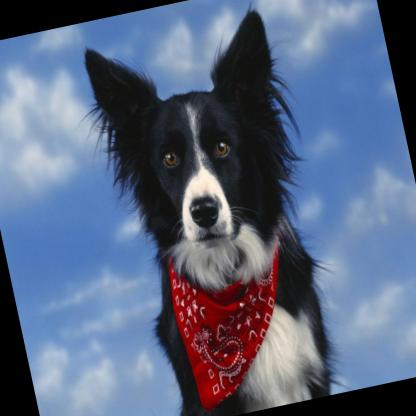Border_collie: (70, 0, 355, 416)
